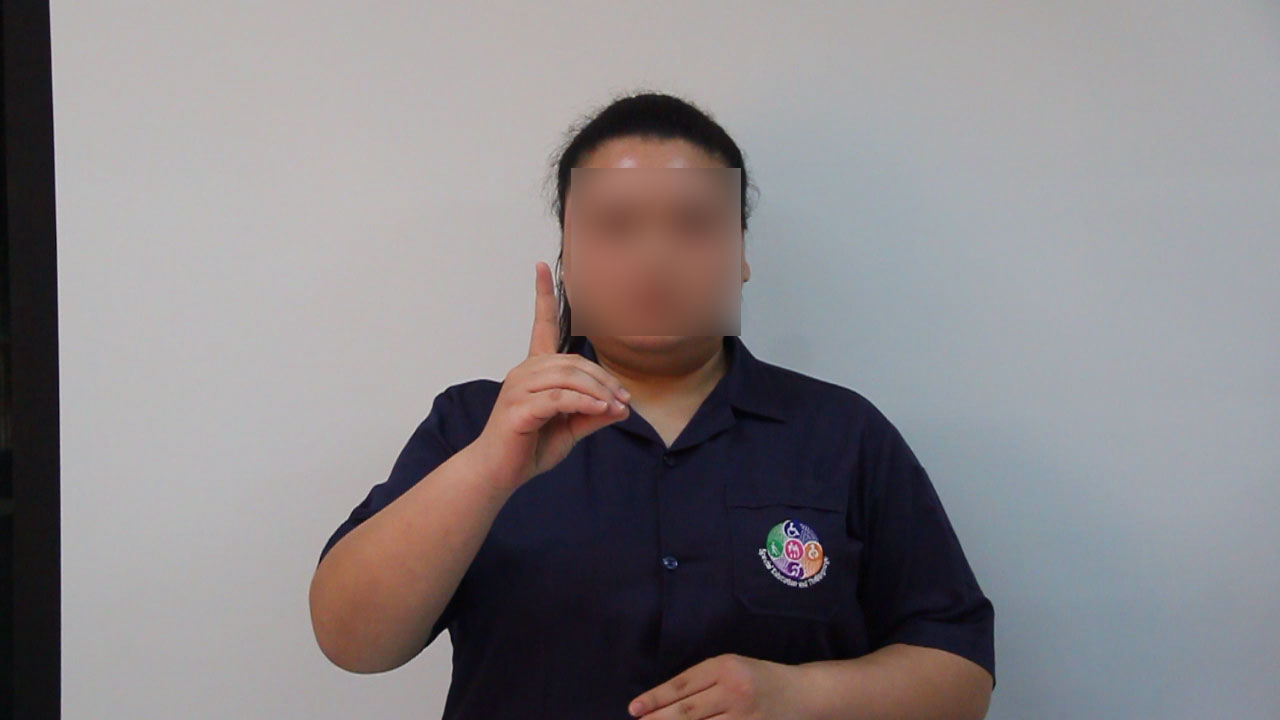dor: (489, 247, 640, 483)
